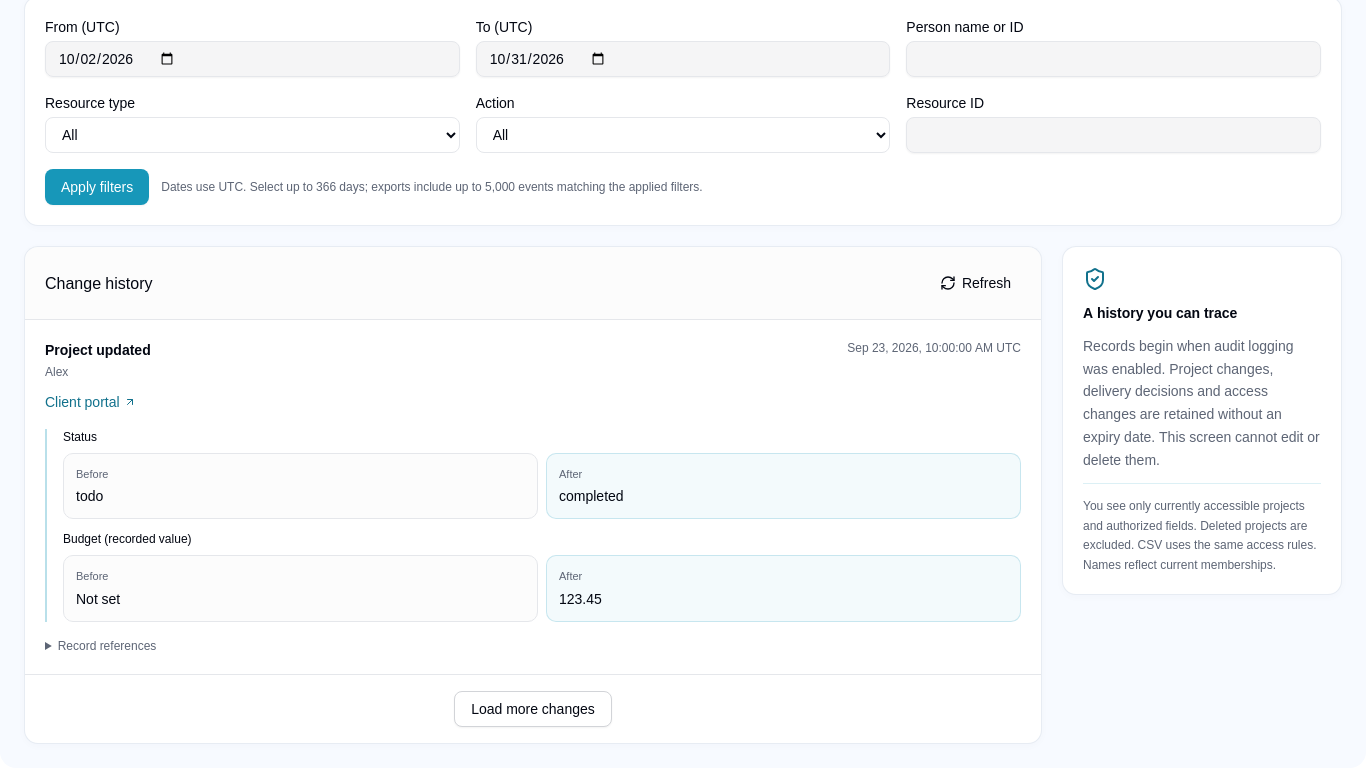
loads the next cursor while retaining earlier events
(page scrolled)
Click the button "Load more changes" at (533, 709), box [454,691,612,727]
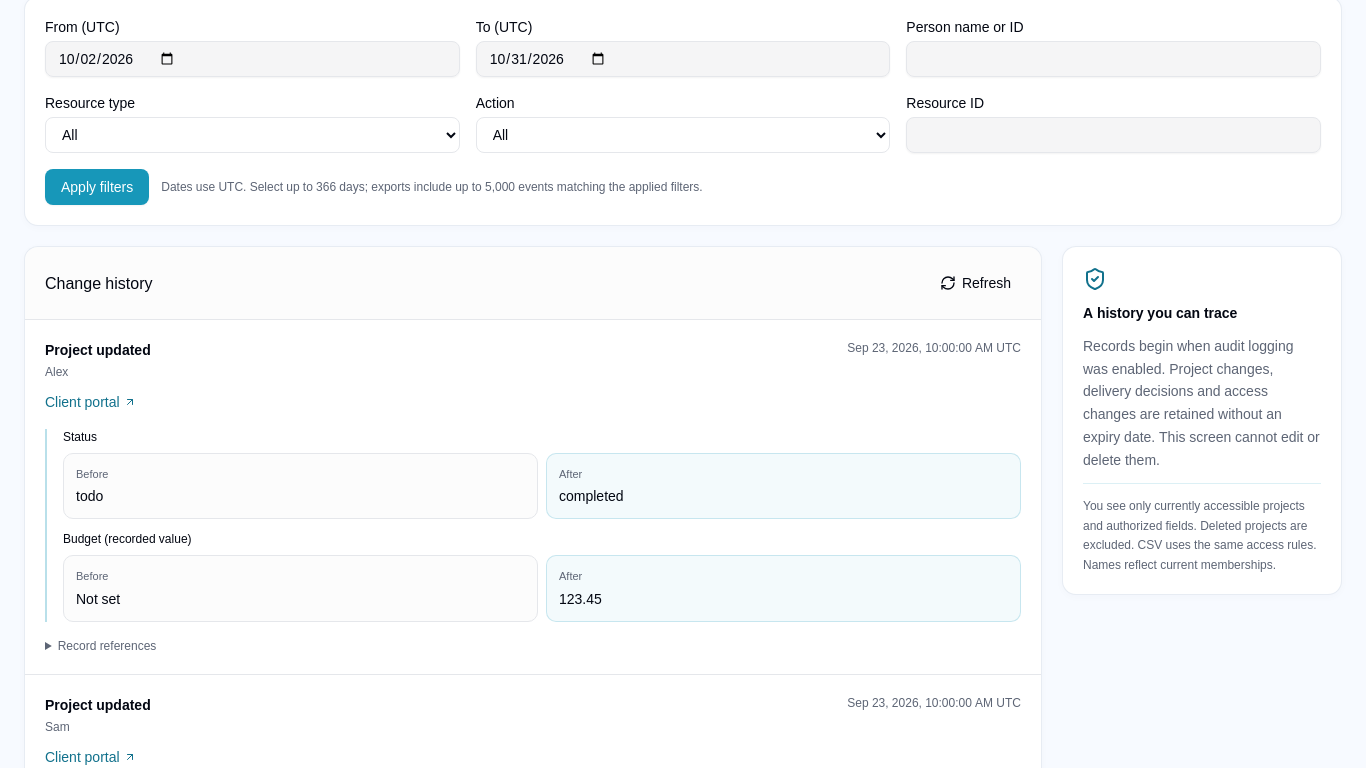
Expected: the text "Alex" is shown, [45,363,68,380]
Now the text "Sam" is shown, box [45,718,70,735]
